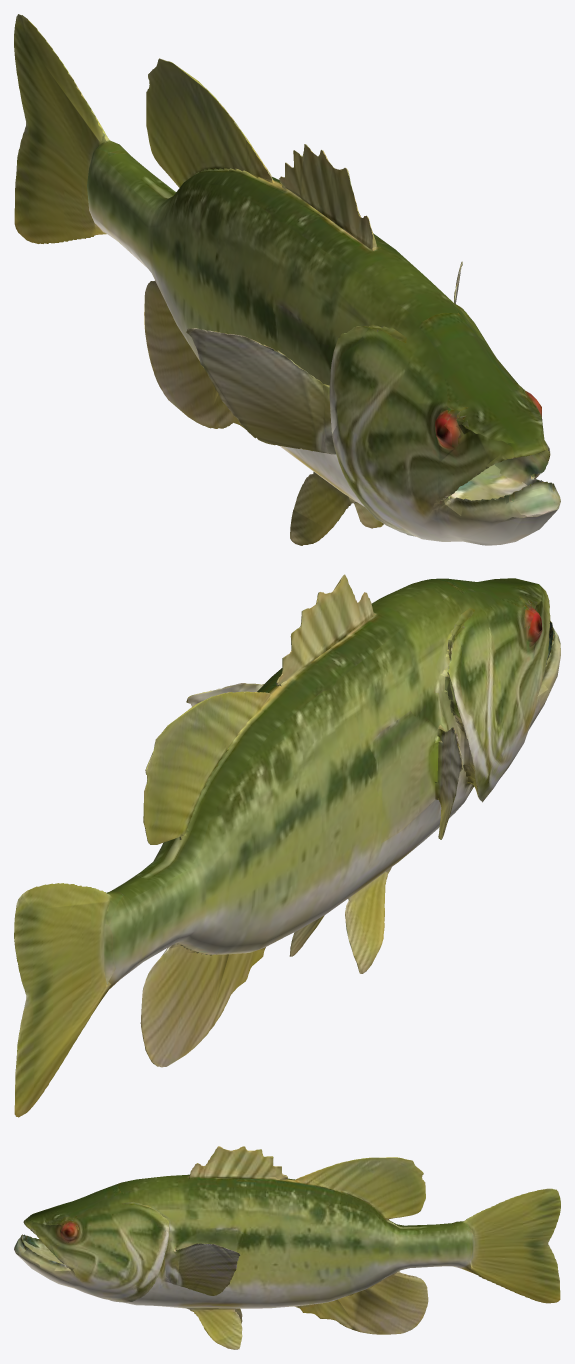
File: lmbass.glb
3 views of the same model, one above another, from view 1: azimuth 30°, elevation 25°; view 2: azimuth 150°, elevation 25°; view 3: azimuth 270°, elevation 25° (orthographic). The views are drawn at different scales.
Visible parts, largest first — view 1: model_0; view 2: model_0; view 3: model_0.
Part boxes in pixels (bbox=[...]): model_0: bbox=[14, 14, 560, 545]; model_0: bbox=[14, 574, 560, 1117]; model_0: bbox=[14, 1146, 560, 1349].
Bounding box in the file's own units: 0.5723 × 0.7472 × 1.9.
Materials: 1 (1 with a texture image).
